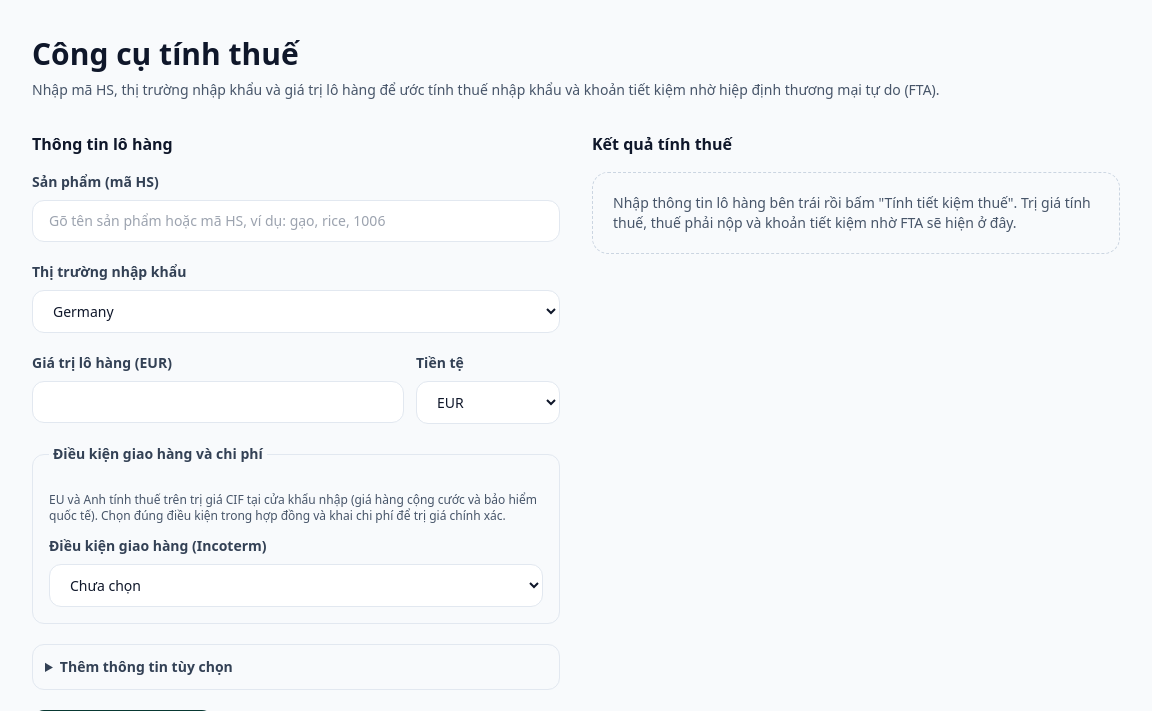
Test: Hạn ngạch: nhập liệu › mặc định không gửi đơn vị và chi phí hạn ngạch
In the dropdown labelled "Sản phẩm (mã HS)": (296, 221) left=32, top=200, right=560, bottom=242, type "gao"
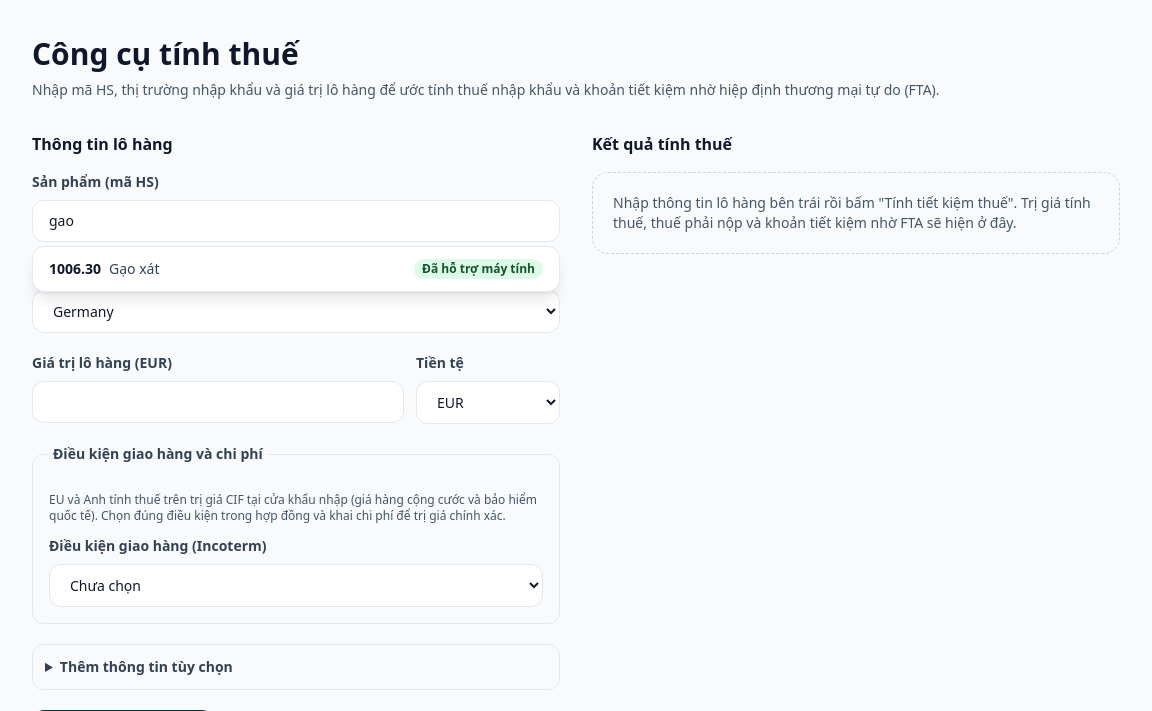
Click the option "1006.30Gạo xát Đã hỗ trợ máy tính": (75, 268) left=49, top=259, right=543, bottom=279
(page scrolled)
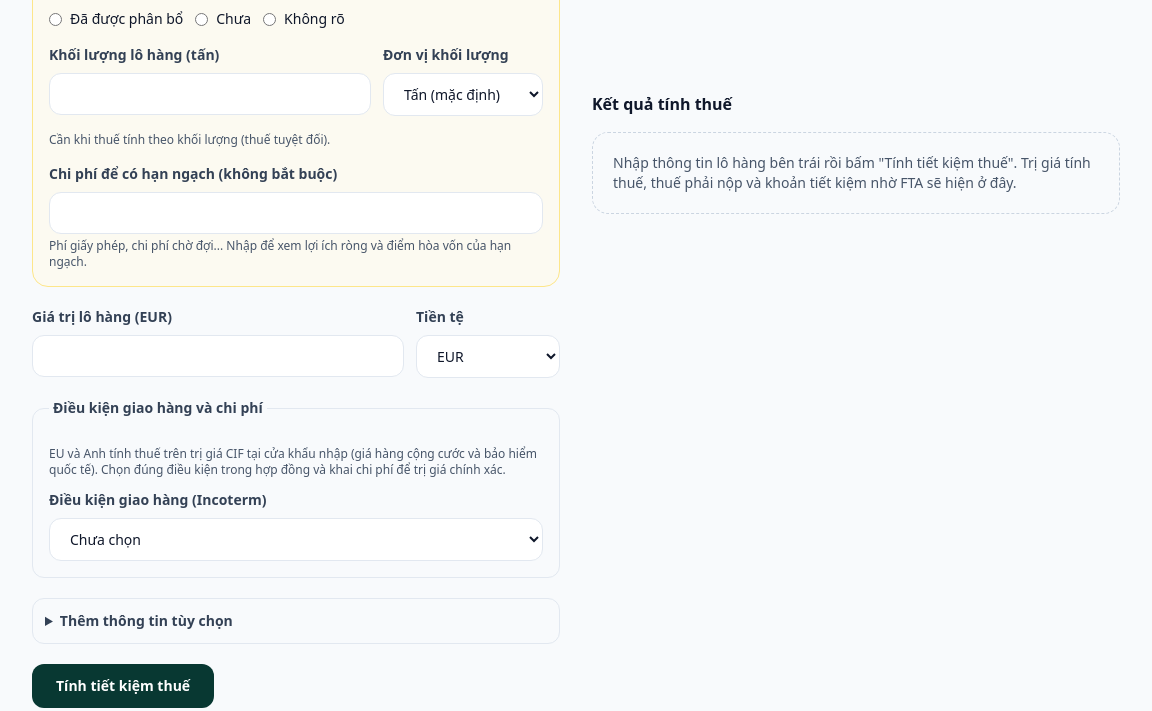
In the field labelled "Giá trị lô hàng (EUR)": (218, 356) left=32, top=335, right=404, bottom=377, type "50000"
(page scrolled)
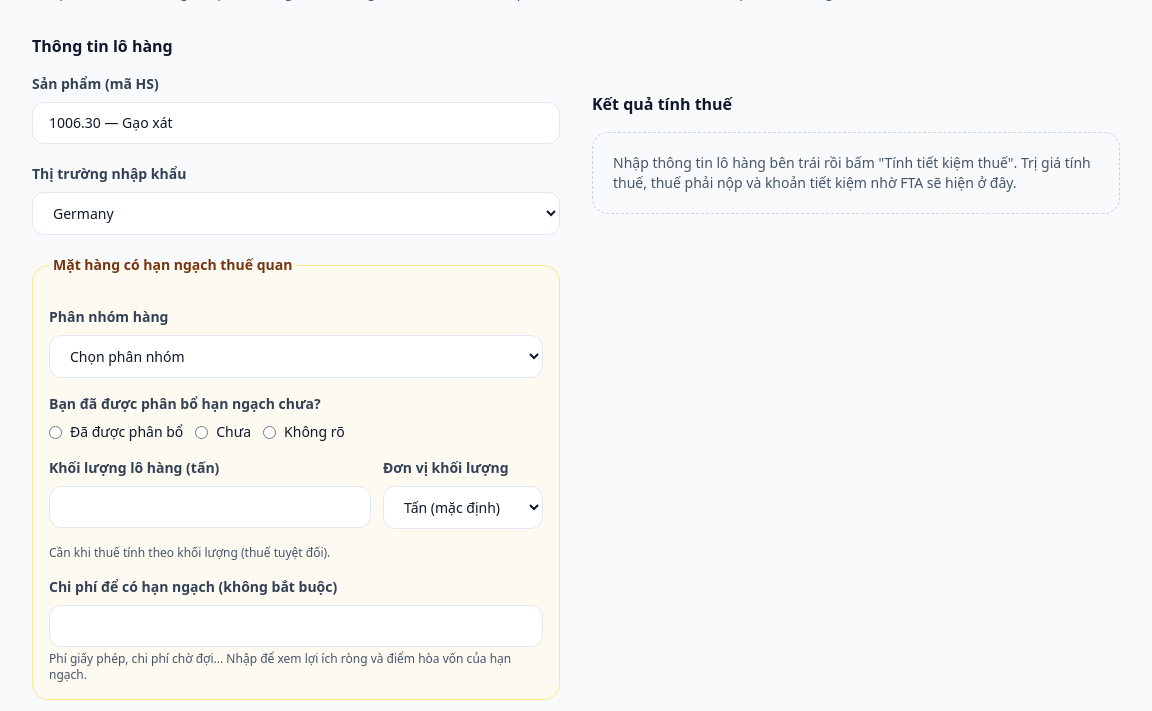
Select "Gạo thơm" in the dropdown labelled "Phân nhóm hàng": (296, 356) left=49, top=335, right=543, bottom=378
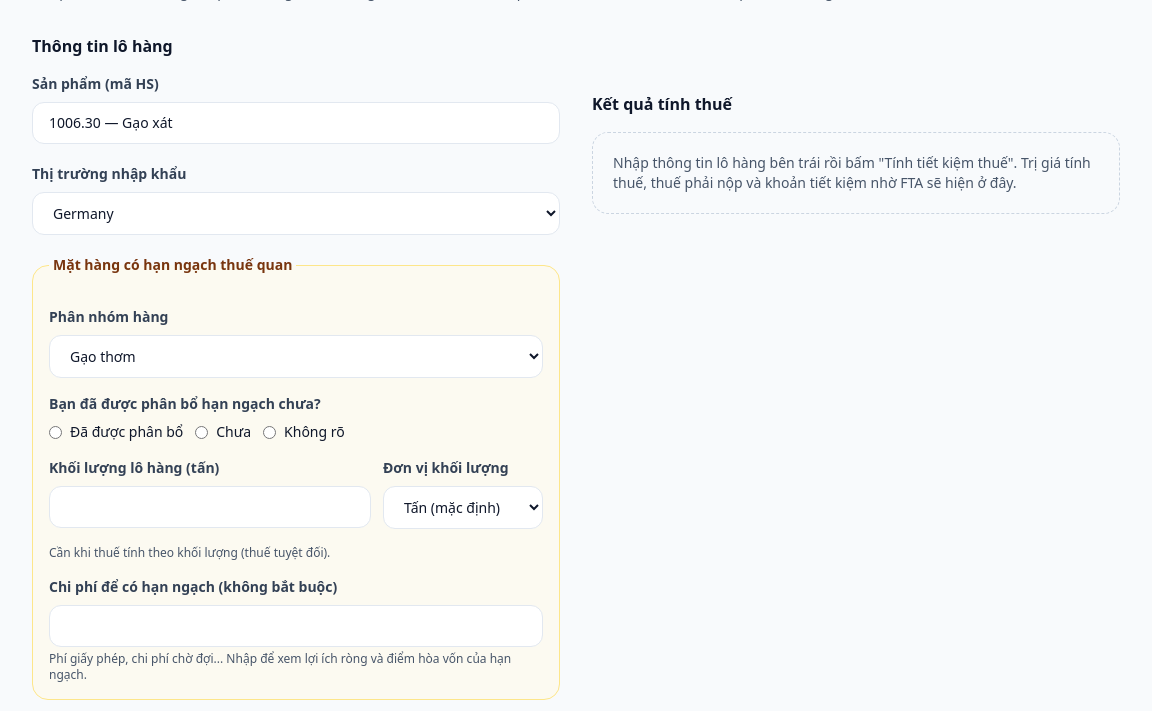
In the field labelled "Khối lượng lô hàng (tấn)": (210, 507) left=49, top=486, right=371, bottom=528, type "100"
(page scrolled)
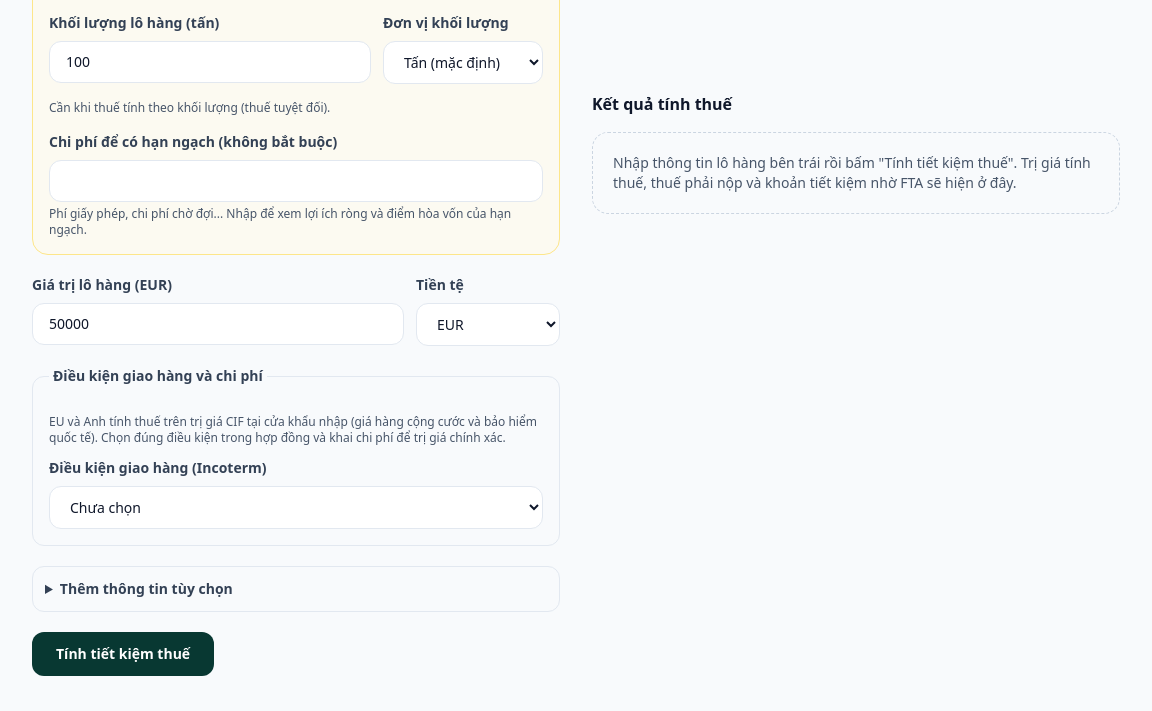
Click the button "Tính tiết kiệm thuế": (123, 654) left=32, top=632, right=214, bottom=676
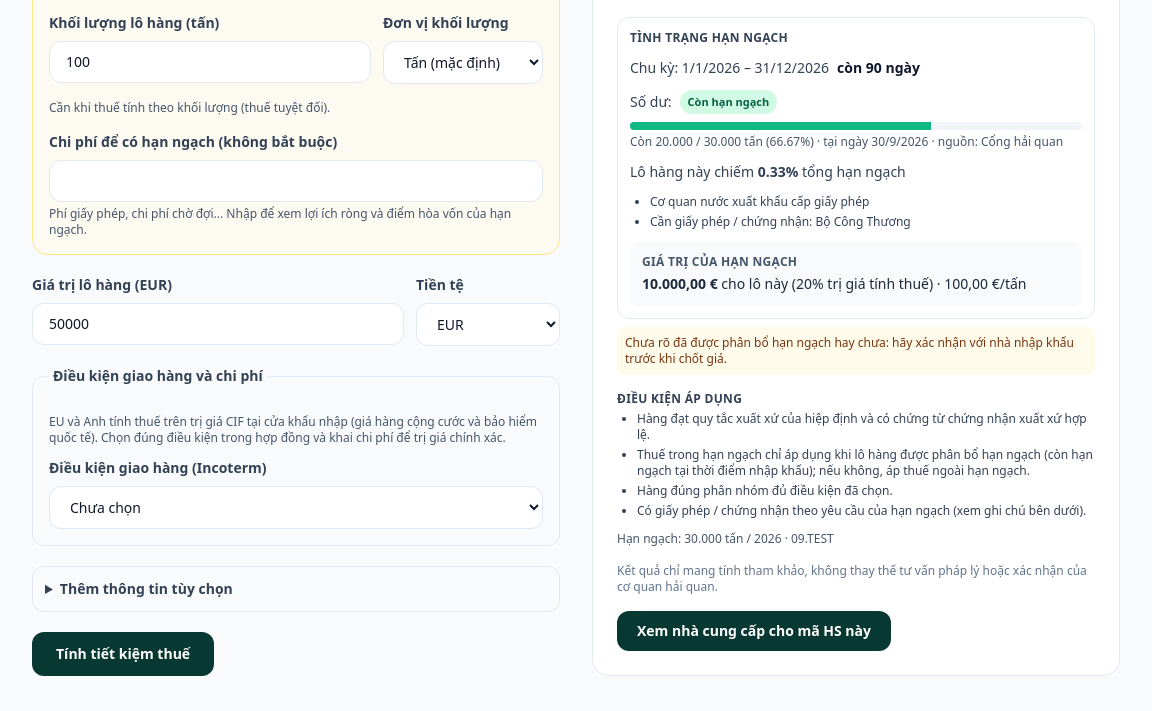
expect the element with test id "quota-insights" is shown: met, box left=617, top=17, right=1095, bottom=319
